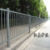zebra: (1, 13, 48, 46)
